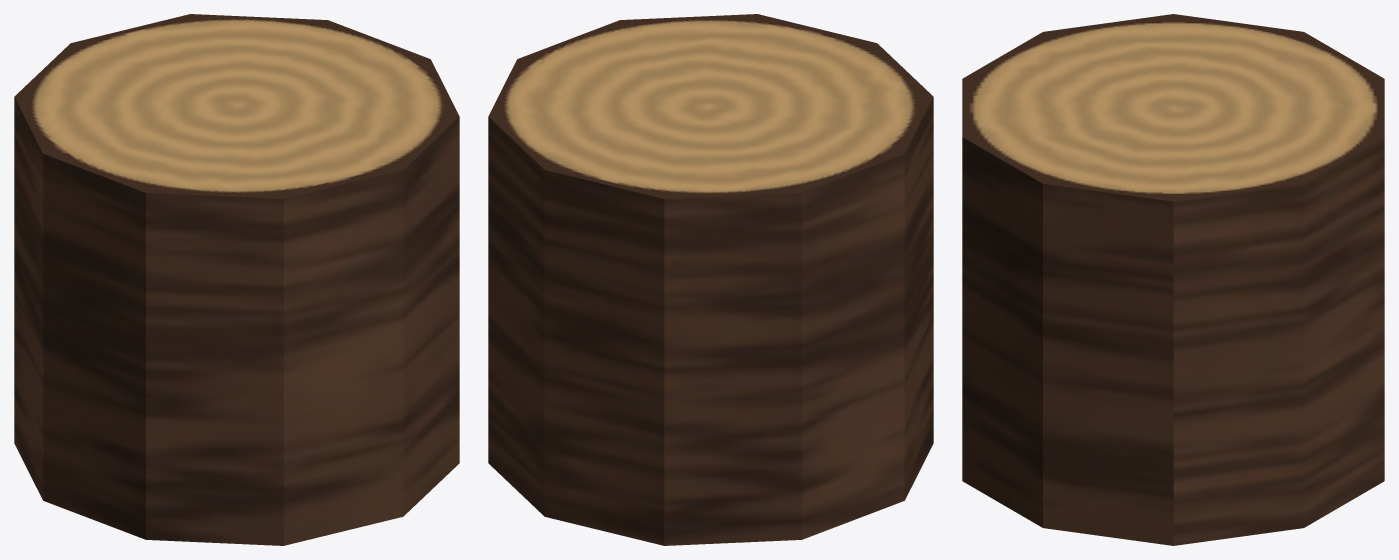
File: SM_stump.fbx
The picture shows the model from 3 angles, left to right: view 1: azimuth 30°, elevation 25°; view 2: azimuth 150°, elevation 25°; view 3: azimuth 270°, elevation 25°; orthographic projection.
Parts seen in each view (by area): view 1: SM_stump; view 2: SM_stump; view 3: SM_stump.
Part boxes in pixels (x1,y1,x2,y2): SM_stump: (14,14,459,545); SM_stump: (488,14,933,545); SM_stump: (962,14,1384,545).
Bounding box in the file's own units: 0.76 × 0.65 × 0.7228.
